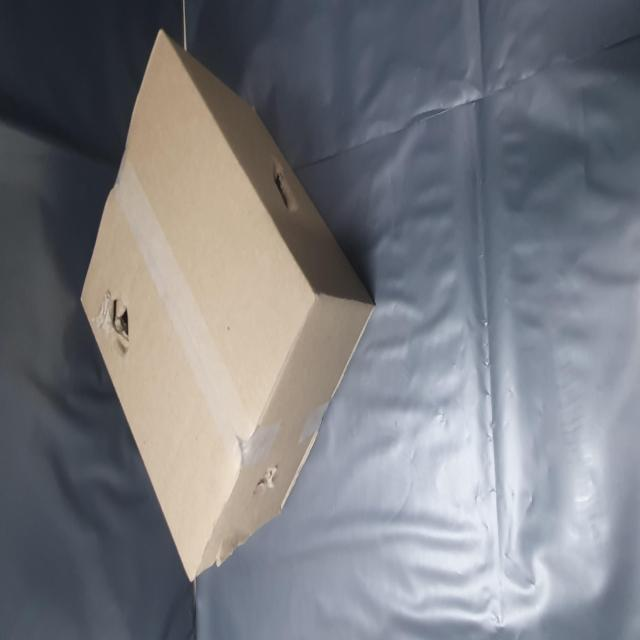damaged: (163, 173, 197, 240), (243, 469, 270, 530)
